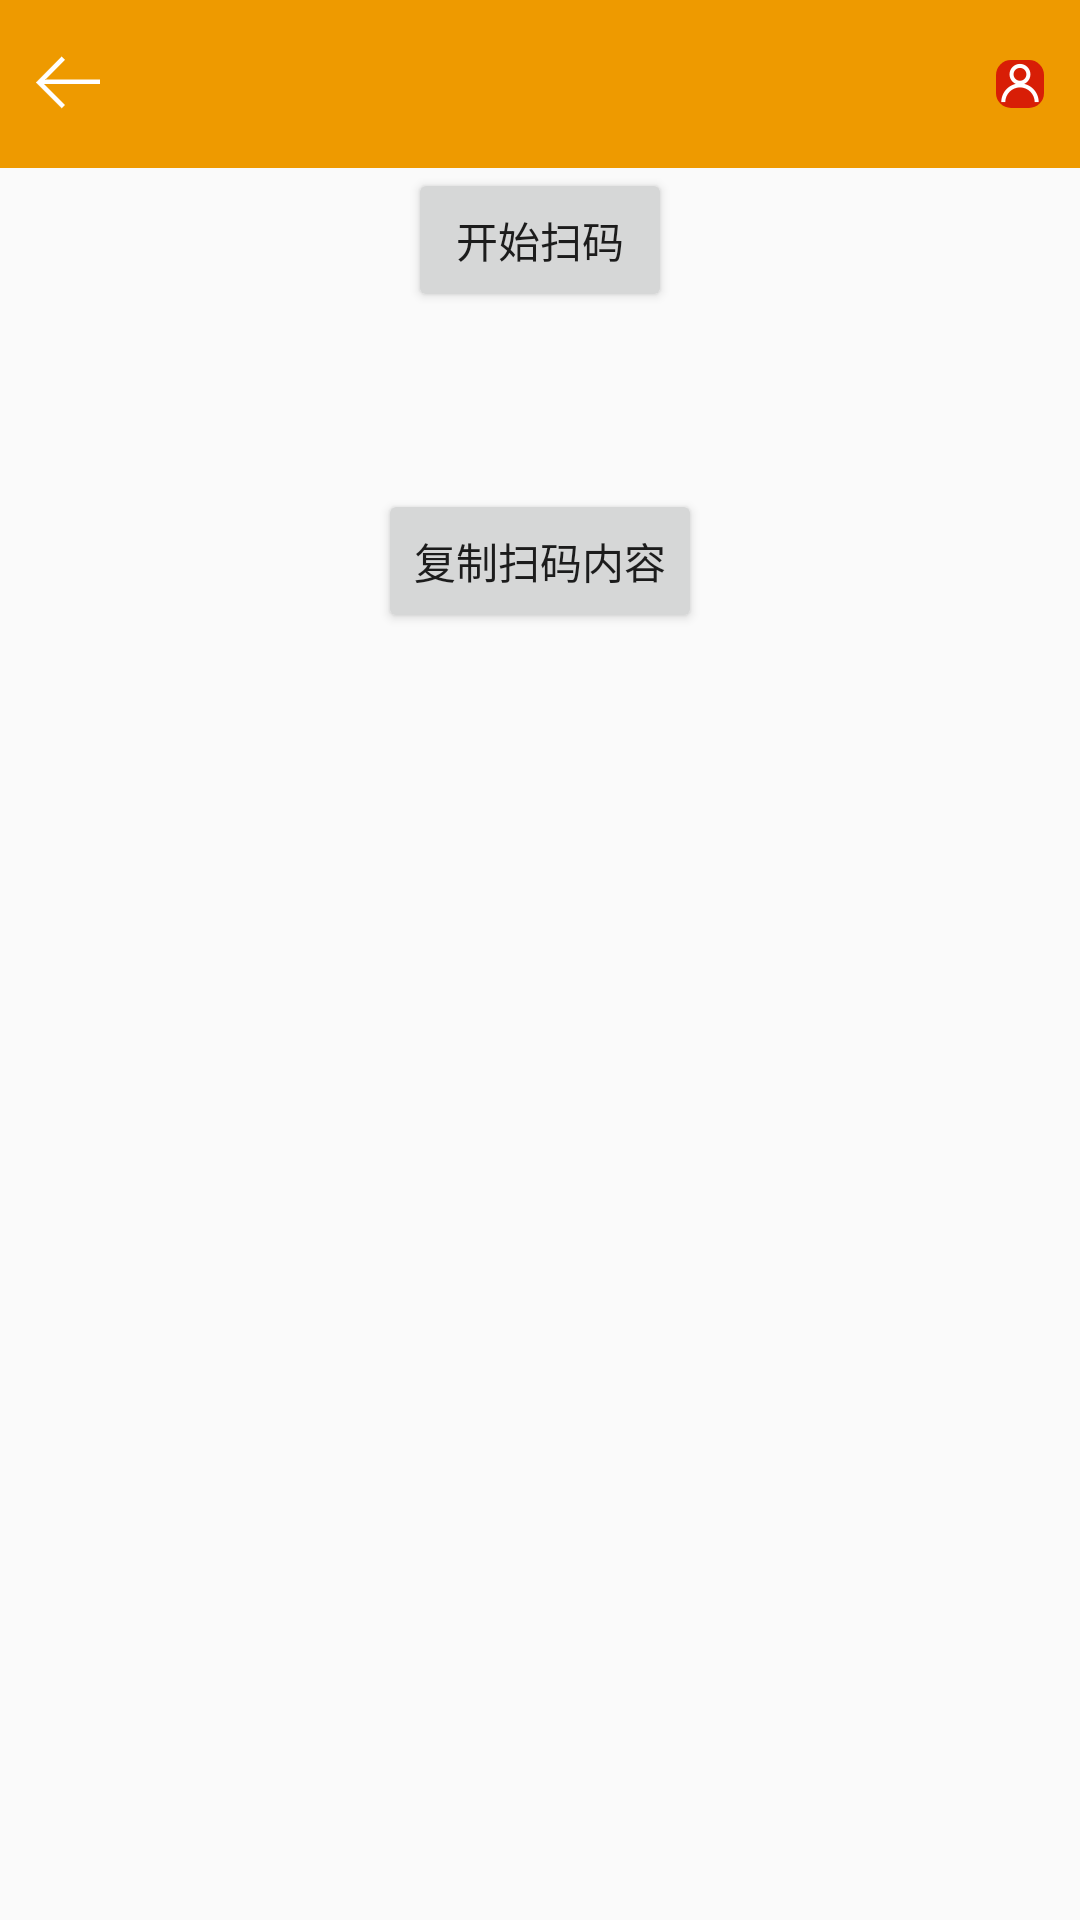

Icons on this 1080*1920 Android screen, each with the point to tap as (x,y):
fanhui: (68,82)
user: (1020,84)
